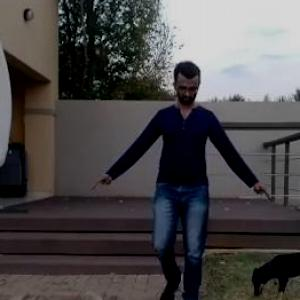land: (101, 80, 246, 299)
